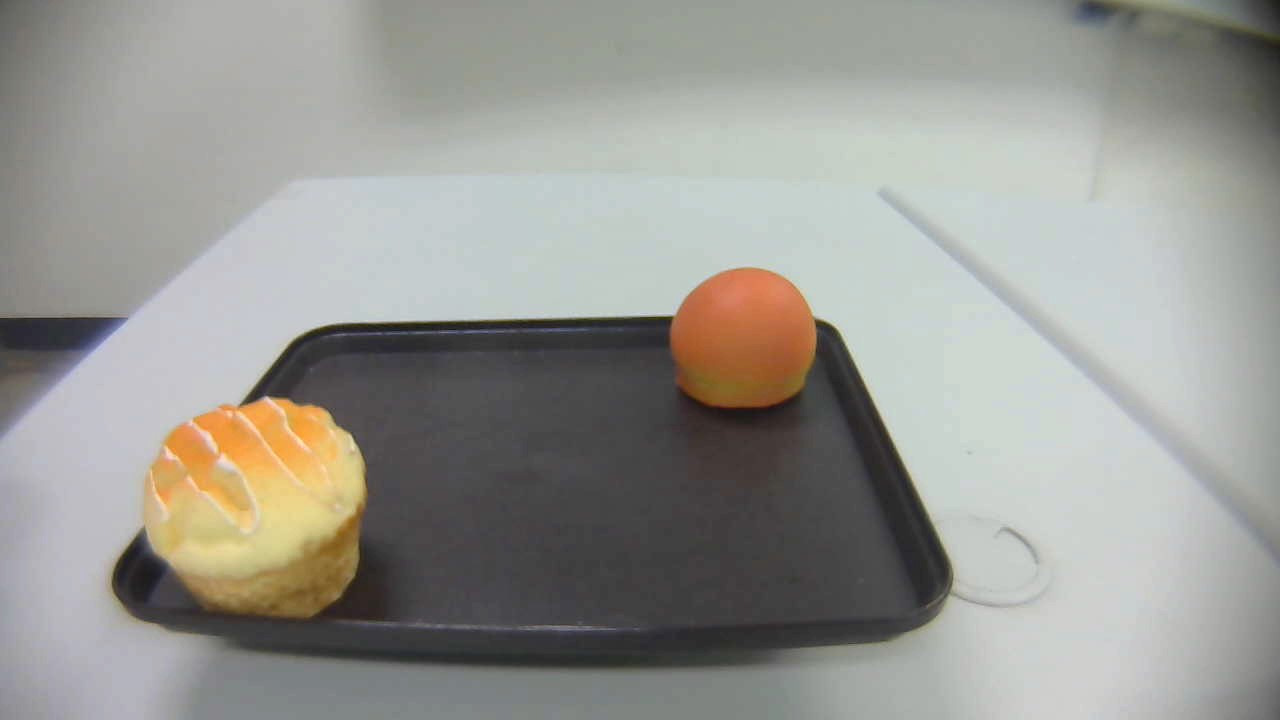bun: (669, 268, 817, 410)
cupcake: (142, 398, 369, 617)
